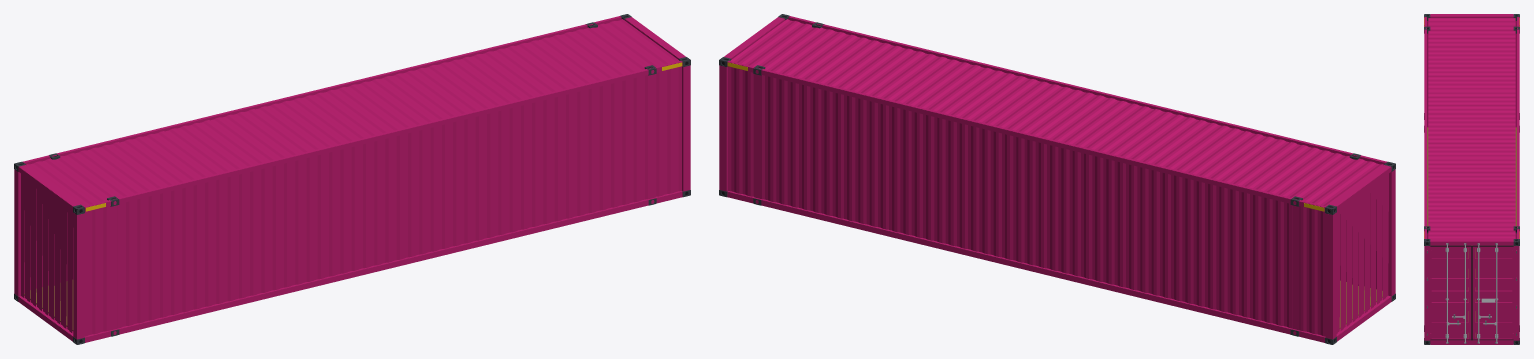
The model's file is iso_45ft_hc_l5g1.obj.
3 views of the same model, side by side, from view 1: azimuth 30°, elevation 25°; view 2: azimuth 150°, elevation 25°; view 3: azimuth 270°, elevation 25° (orthographic). The views are drawn at different scales.
Parts seen in each view (by area): view 1: 04_Corrugated_Corten_Panels, 02_Structural_Frame_Rails; view 2: 04_Corrugated_Corten_Panels, 02_Structural_Frame_Rails; view 3: 04_Corrugated_Corten_Panels, 06_Corrugated_Rear_Doors, 02_Structural_Frame_Rails, 07_Galvanized_Locking_Hardware, 05_Door_Rubber_Gaskets_Beveled, 03_Marine_Wood_Floor, 01_ISO_Corner_Castings_Hollow3D, 01_ISO_40ft_Intermediate_Castings.
Part boxes in pixels (x1,y1,x2,y2): 04_Corrugated_Corten_Panels: (21, 19, 681, 336); 02_Structural_Frame_Rails: (14, 16, 690, 342); 04_Corrugated_Corten_Panels: (728, 19, 1388, 336); 02_Structural_Frame_Rails: (719, 16, 1395, 342); 04_Corrugated_Corten_Panels: (1428, 18, 1515, 239); 06_Corrugated_Rear_Doors: (1426, 246, 1517, 339); 02_Structural_Frame_Rails: (1424, 14, 1519, 344); 07_Galvanized_Locking_Hardware: (1427, 243, 1516, 343); 05_Door_Rubber_Gaskets_Beveled: (1430, 245, 1513, 340); 03_Marine_Wood_Floor: (1427, 127, 1516, 337); 01_ISO_Corner_Castings_Hollow3D: (1424, 14, 1519, 344); 01_ISO_40ft_Intermediate_Castings: (1424, 26, 1519, 331).
Size of the model in its own units: 13.74 by 2.9 by 2.44.
